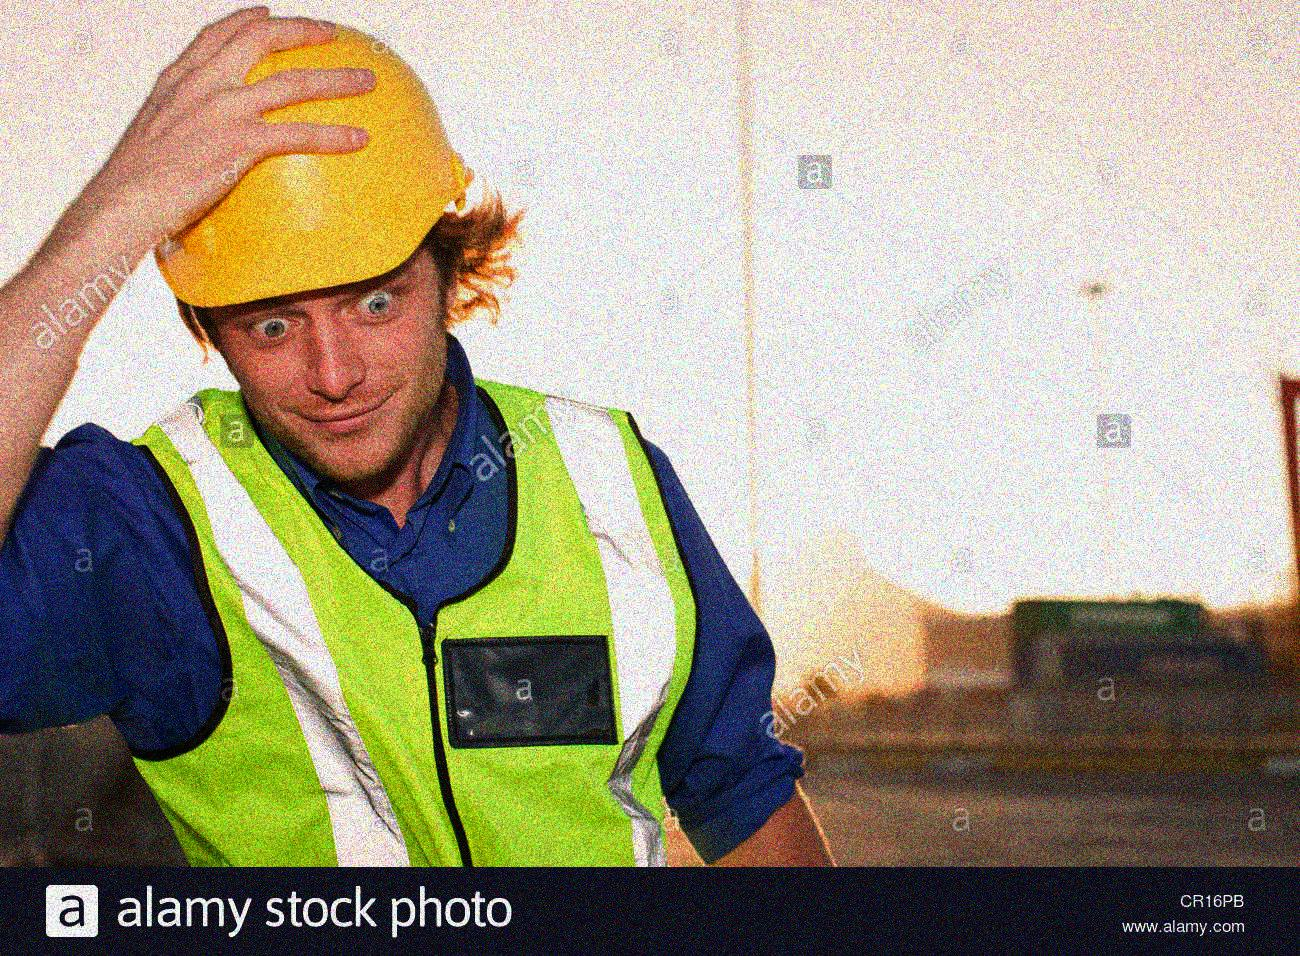helmet: (128, 2, 491, 480)
